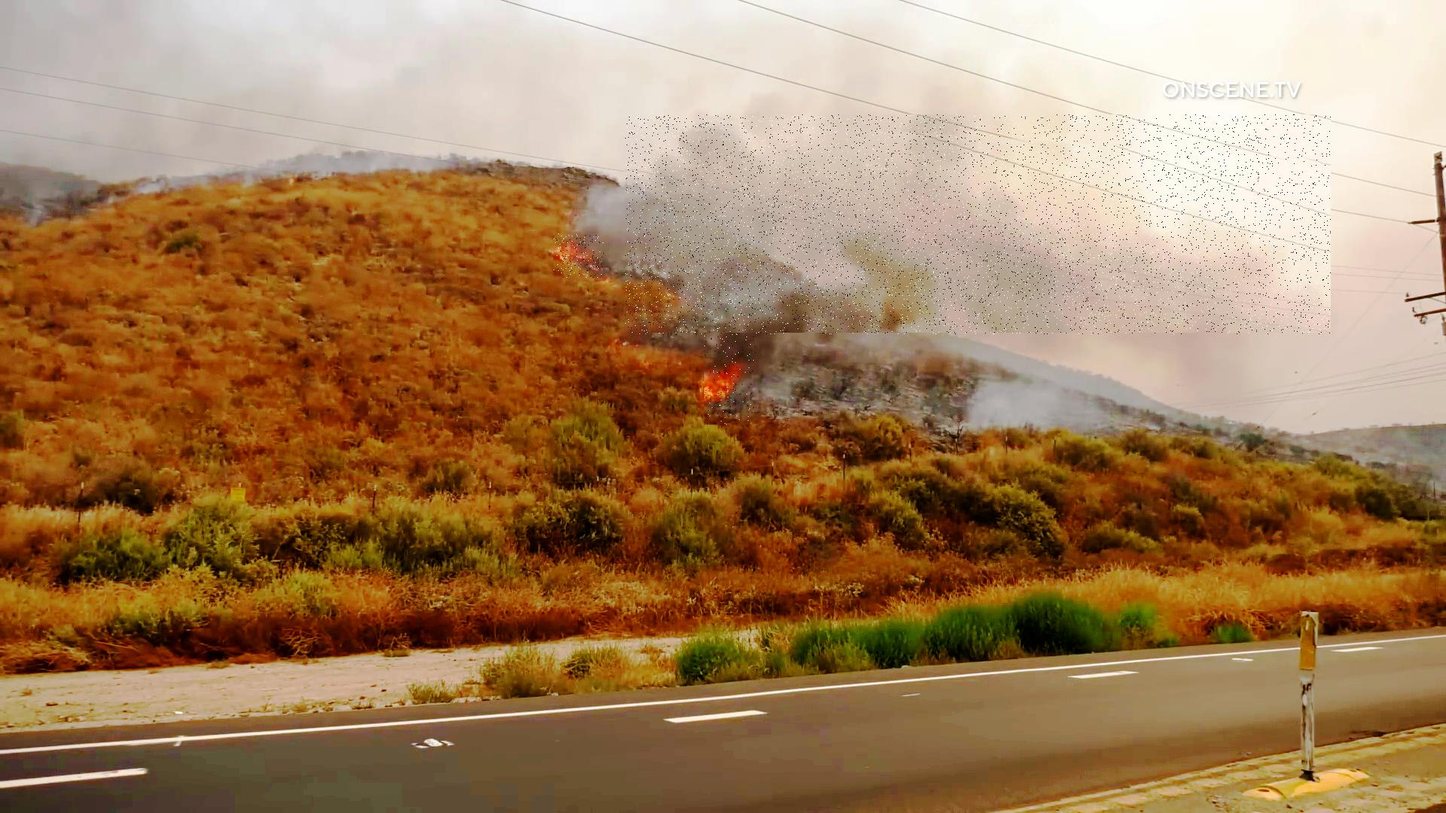fire: (705, 334, 757, 425), (554, 233, 605, 278)
smoke: (625, 115, 1331, 335)
